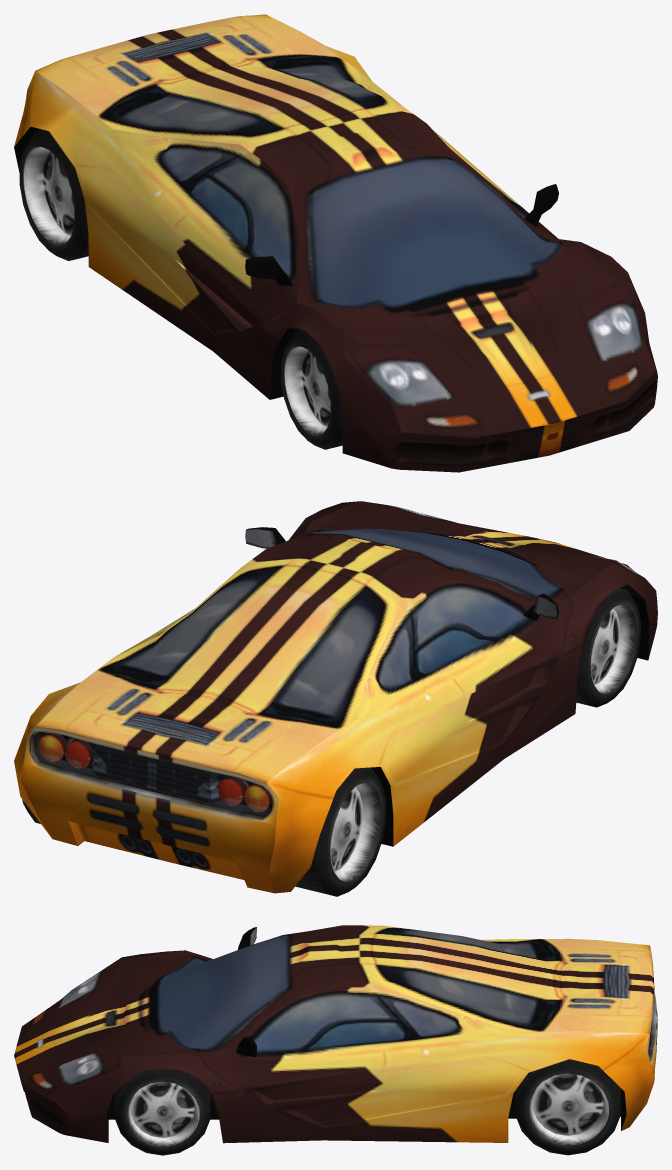
Rendered from McLaren F1 yellow without spoiler.fbx.
3 views of the same model, one above another, from view 1: azimuth 30°, elevation 25°; view 2: azimuth 150°, elevation 25°; view 3: azimuth 270°, elevation 25° (orthographic). The views are drawn at different scales.
Parts seen in each view (by area): view 1: mclaren, RR, FR; view 2: mclaren, RR, FR; view 3: mclaren, RL, FL.
Part boxes in pixels (x1,y1,x2,y2): mclaren: [14, 14, 657, 472]; RR: [19, 129, 88, 260]; FR: [281, 330, 343, 449]; mclaren: [14, 501, 657, 893]; RR: [295, 767, 386, 896]; FR: [576, 588, 640, 707]; mclaren: [14, 925, 657, 1143]; RL: [515, 1059, 620, 1155]; FL: [115, 1068, 210, 1155].
Size of the model in its own units: 220 by 130 by 500.
